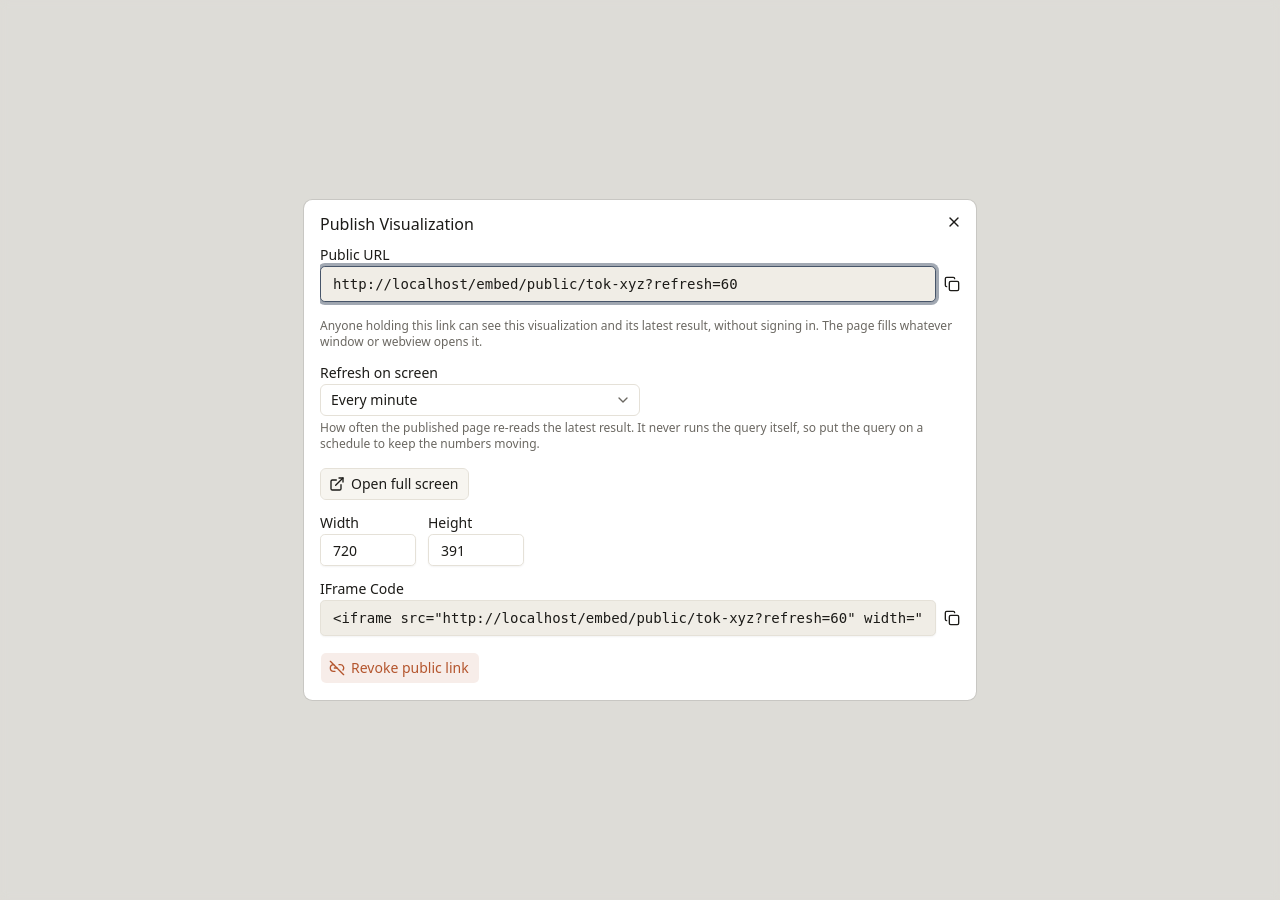
Test case: EmbedDialog: a token already exists › revokes the link and stops offering it
Click the button "Revoke public link". click: coordinates (400, 668)
box: [320,652,480,684]
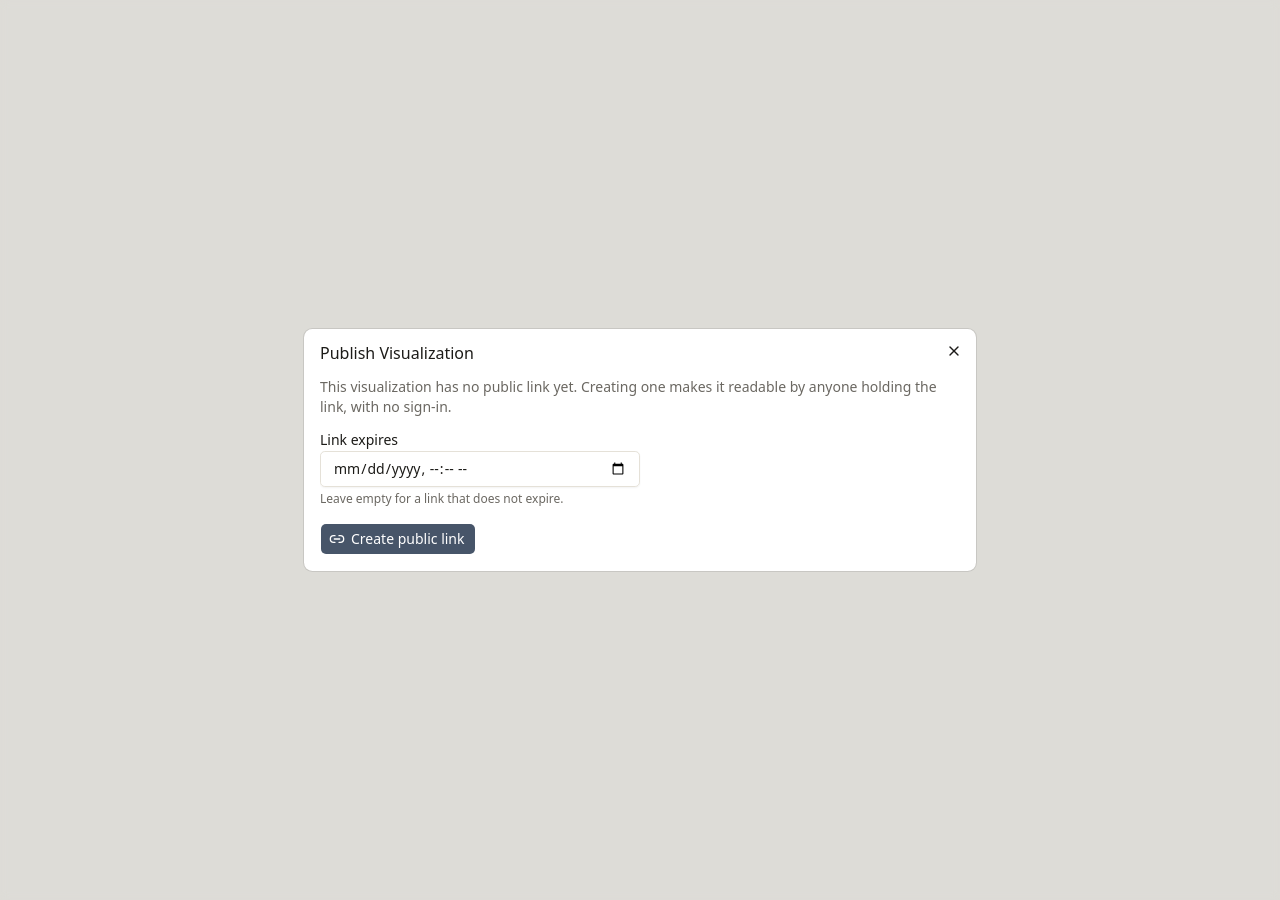
Expected: the field showing "tok-xyz" is not shown
Expected: the button "Create public link" is shown, [320,523,476,555]
